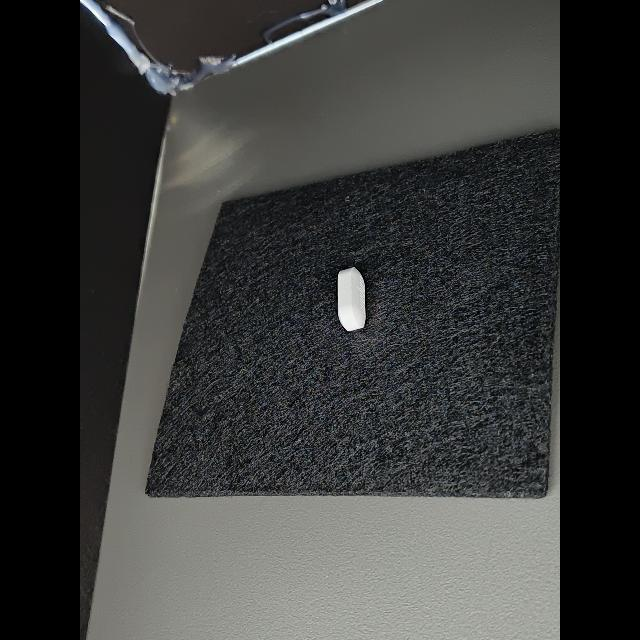Intact Pill: (338, 267, 366, 331)
